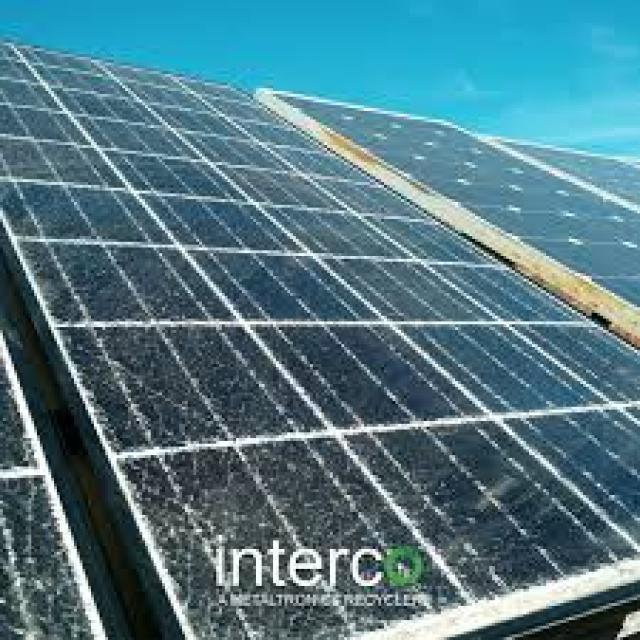faulty: (2, 43, 638, 640)
